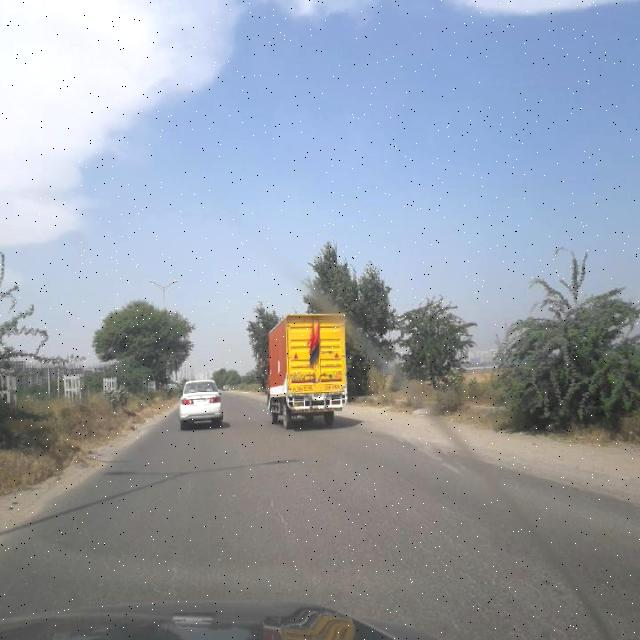D00: (262, 484, 300, 550)
D20: (398, 483, 614, 639)
